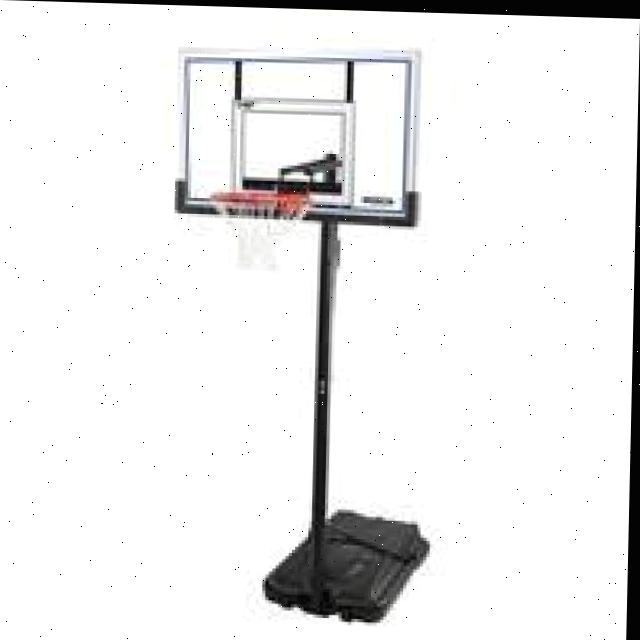hoop: (209, 189, 308, 275)
